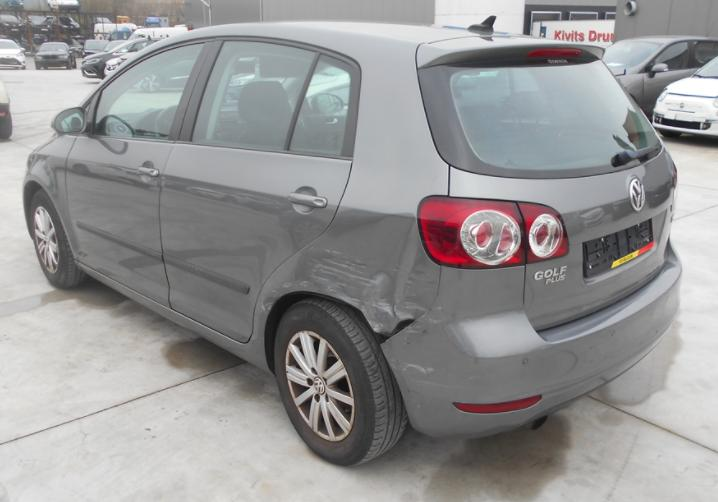Back-bumper: (381, 231, 683, 440)
Back-door: (159, 37, 362, 345)
Back-wheel: (274, 296, 408, 468)
Back-window: (192, 41, 316, 149), (289, 54, 355, 157)
Back-windshield: (417, 57, 663, 180)
Fender: (23, 134, 79, 257)
Front-door: (65, 37, 216, 307)
Front-wheel: (30, 188, 87, 289)
Front-window: (94, 43, 206, 140), (86, 104, 90, 112)
Headlight: (416, 195, 570, 269), (673, 163, 677, 188)
Hood: (30, 132, 61, 155)
License-plate: (583, 219, 654, 278)
Mirror: (51, 107, 88, 135)
Quarter-panel: (250, 161, 450, 346)
Rocker-panel: (73, 256, 276, 378)
Roof: (155, 22, 528, 72)
Trunk: (448, 146, 675, 332), (416, 35, 606, 70)
